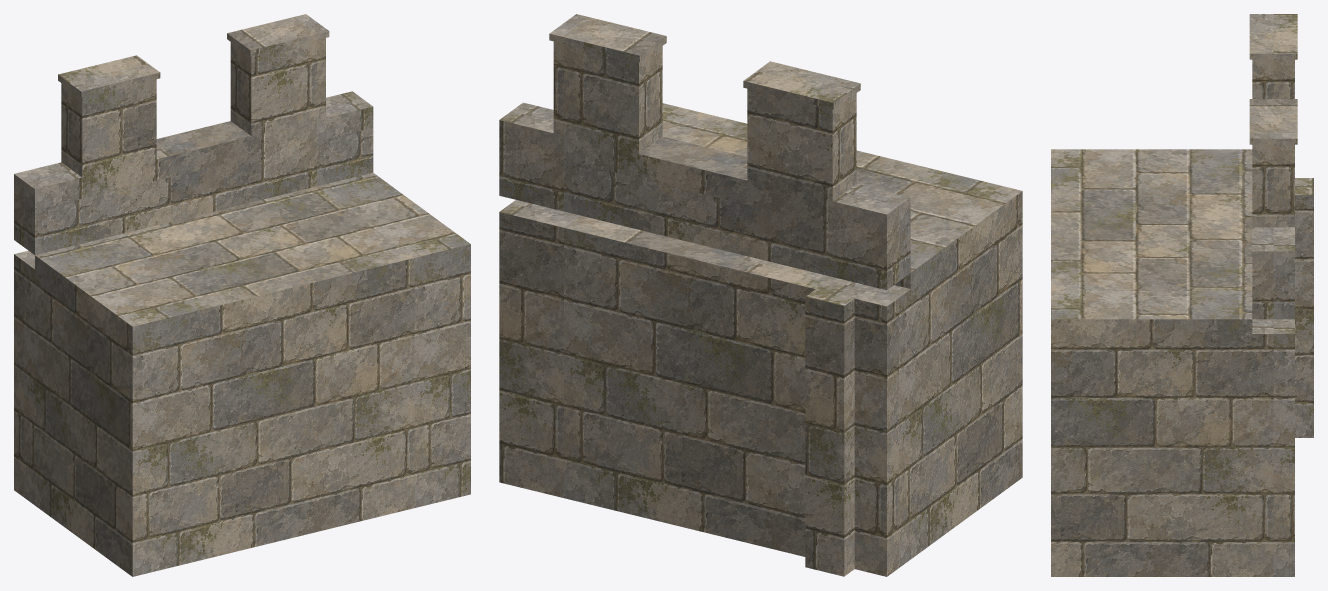
The model's file is castle-curtain-3.gltf.
3 renders of one model, left to right at view 1: azimuth 30°, elevation 25°; view 2: azimuth 150°, elevation 25°; view 3: azimuth 270°, elevation 25°, orthographic. The views are drawn at different scales.
Visible parts, largest first — view 1: curtain-L0-stone, walkway-L1-stone; view 2: curtain-L0-stone, walkway-L1-stone; view 3: curtain-L0-stone, walkway-L1-stone.
Boxes of the visible parts, left/top/right/bottom form: curtain-L0-stone: left=14, top=14, right=470, bottom=576; walkway-L1-stone: left=35, top=172, right=470, bottom=340; curtain-L0-stone: left=499, top=14, right=1022, bottom=576; walkway-L1-stone: left=662, top=103, right=1022, bottom=288; curtain-L0-stone: left=1051, top=14, right=1313, bottom=576; walkway-L1-stone: left=1051, top=149, right=1252, bottom=333.
Bounding box in the file's own units: 3 × 3.42 × 1.96.
Materials: 1 (1 with a texture image).
